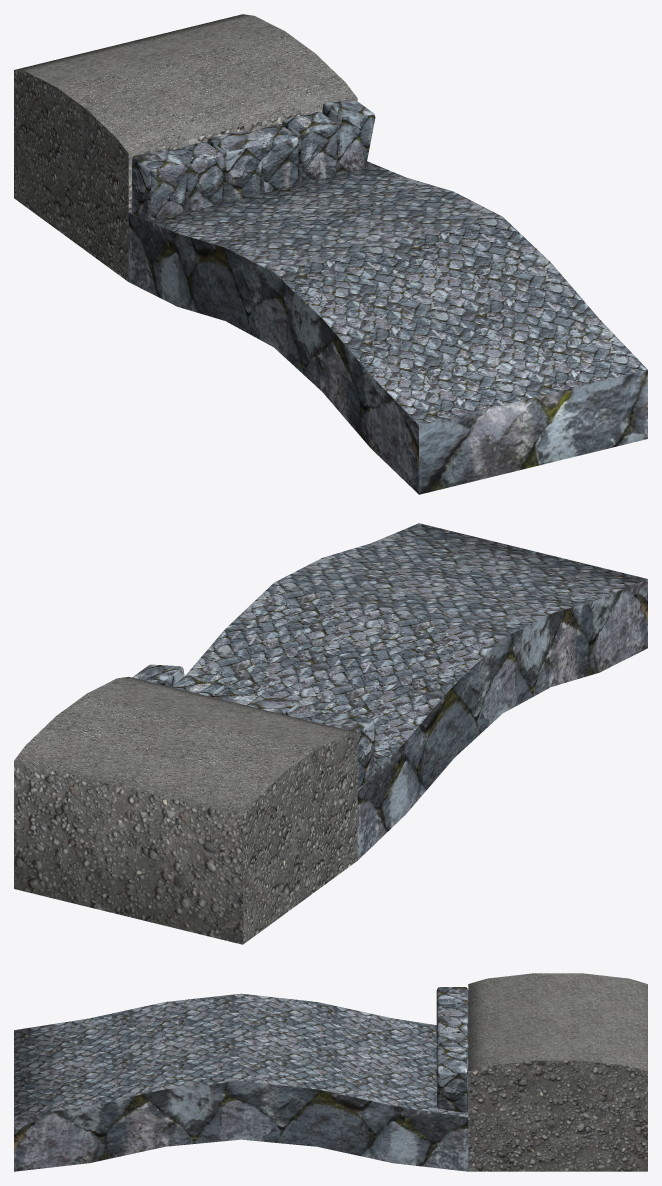
File: Street_2m.fbx
3 views of the same model, one above another, from view 1: azimuth 30°, elevation 25°; view 2: azimuth 150°, elevation 25°; view 3: azimuth 270°, elevation 25° (orthographic). The views are drawn at different scales.
Parts seen in each view (by area): view 1: Street_2m; view 2: Street_2m; view 3: Street_2m.
Boxes of the visible parts, x1,y1,x2,y2 form: Street_2m: (14,14,647,494); Street_2m: (14,523,647,944); Street_2m: (14,973,647,1171).
Bounding box in the file's own units: 1.96 × 1.16 × 6.
